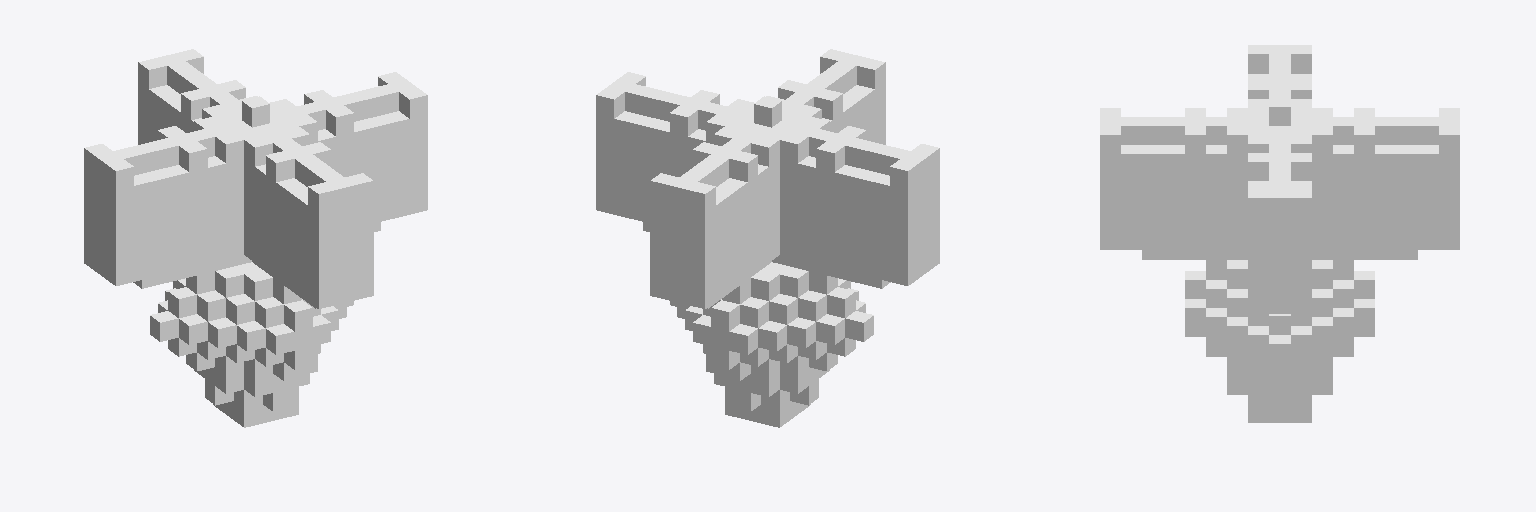
File: Aimer.obj
3 views of the same model, side by side, from view 1: azimuth 30°, elevation 25°; view 2: azimuth 150°, elevation 25°; view 3: azimuth 270°, elevation 25° (orthographic).
Visible parts, largest first — view 1: object 1; view 2: object 1; view 3: object 1.
Boxes of the visible parts, <box> form: object 1: <box>84,49,427,427</box>; object 1: <box>596,49,939,427</box>; object 1: <box>1100,45,1459,422</box>.
Size of the model in its own units: 1.7 by 1.6 by 1.7.